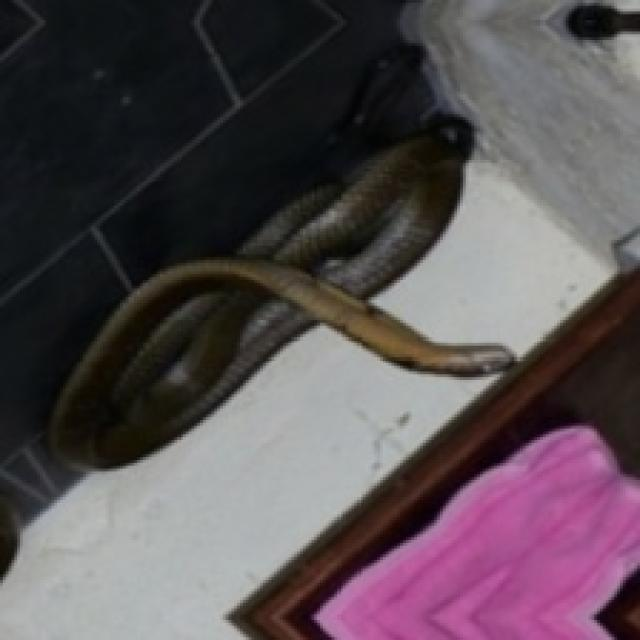king cobra: (46, 117, 511, 466), (49, 117, 511, 466)
